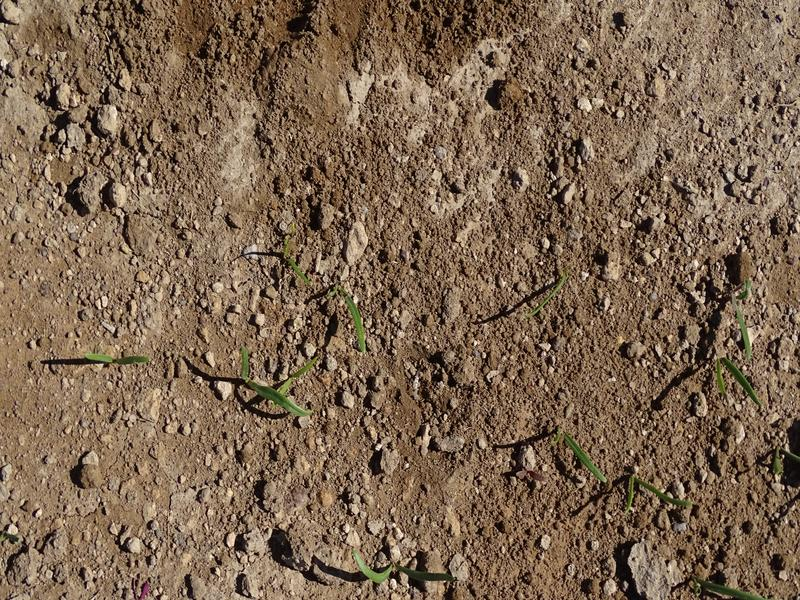Espinaca: (219, 346, 327, 421), (344, 550, 463, 589), (711, 341, 771, 409), (612, 468, 685, 514), (555, 430, 607, 485), (338, 291, 371, 353), (85, 347, 152, 366)
